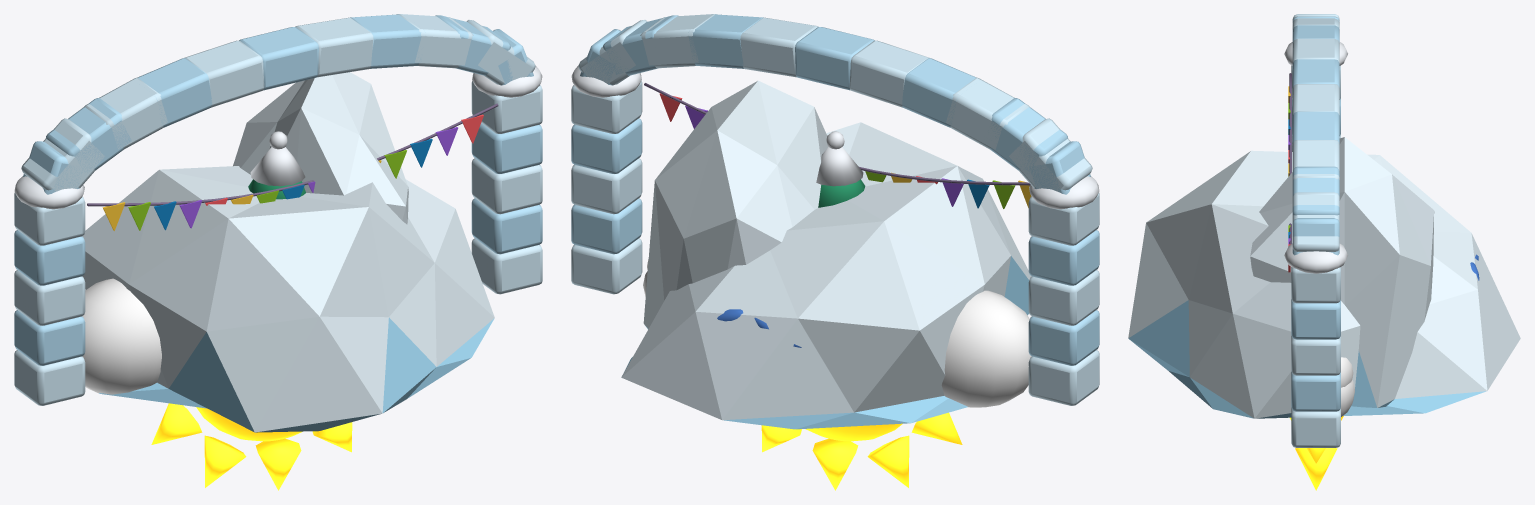
The model's file is world.glb.
3 views of the same model, side by side, from view 1: azimuth 30°, elevation 25°; view 2: azimuth 150°, elevation 25°; view 3: azimuth 270°, elevation 25° (orthographic). The views are drawn at different scales.
Parts seen in each view (by area): view 1: iceberg_0_mesh, ice_arch_mesh, cloud_0_mesh, sun_mesh, pine_tree_mesh; view 2: iceberg_0_mesh, ice_arch_mesh, cloud_0_mesh, sun_mesh, pine_tree_mesh; view 3: iceberg_0_mesh, ice_arch_mesh, sun_mesh.
Boxes of the visible parts, x1=… form: iceberg_0_mesh: x1=82, y1=72, x2=494, y2=432; ice_arch_mesh: x1=14, y1=14, x2=542, y2=405; cloud_0_mesh: x1=82, y1=278, x2=161, y2=394; sun_mesh: x1=151, y1=403, x2=352, y2=490; pine_tree_mesh: x1=248, y1=131, x2=305, y2=199; iceberg_0_mesh: x1=621, y1=80, x2=1031, y2=429; ice_arch_mesh: x1=571, y1=14, x2=1099, y2=405; cloud_0_mesh: x1=647, y1=259, x2=1031, y2=407; sun_mesh: x1=761, y1=412, x2=962, y2=490; pine_tree_mesh: x1=816, y1=131, x2=865, y2=207; iceberg_0_mesh: x1=1128, y1=137, x2=1520, y2=418; ice_arch_mesh: x1=1284, y1=14, x2=1347, y2=447; sun_mesh: x1=1290, y1=416, x2=1343, y2=490.
Size of the model in its own units: 7.6 by 6.3 by 5.52.
